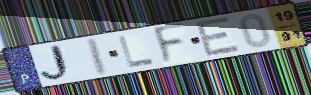0: (237, 12, 275, 50)
E: (192, 15, 243, 59)
F: (152, 21, 189, 68)
I: (87, 36, 111, 78)
J: (39, 42, 76, 83)
L: (116, 34, 157, 70)
